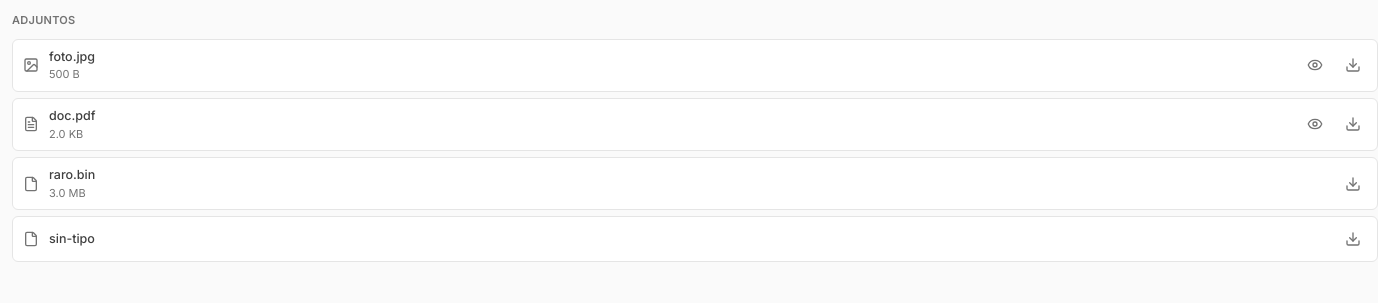
Test case: AttachmentGallery › traduce el error de descarga 404
Click the button named "Descargar foto.jpg".
click(1353, 65)  # box [1339,51,1367,79]
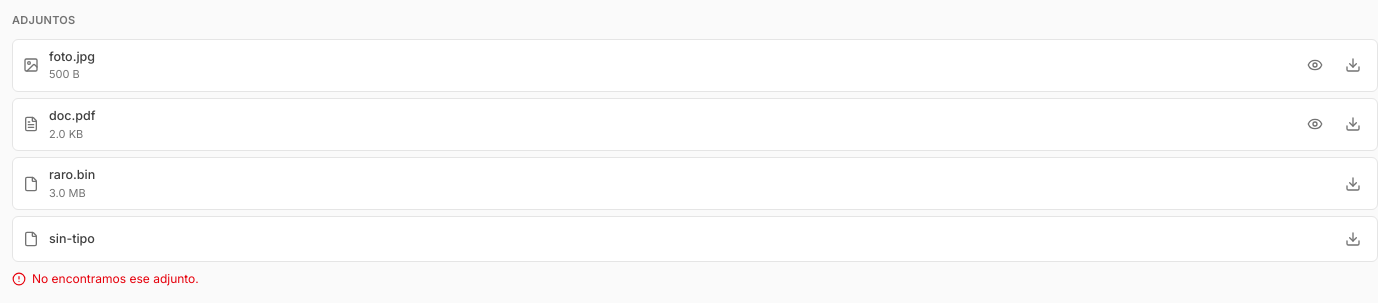
Expected: the text "No encontramos ese adjunto." is shown, [12,271,199,286]
